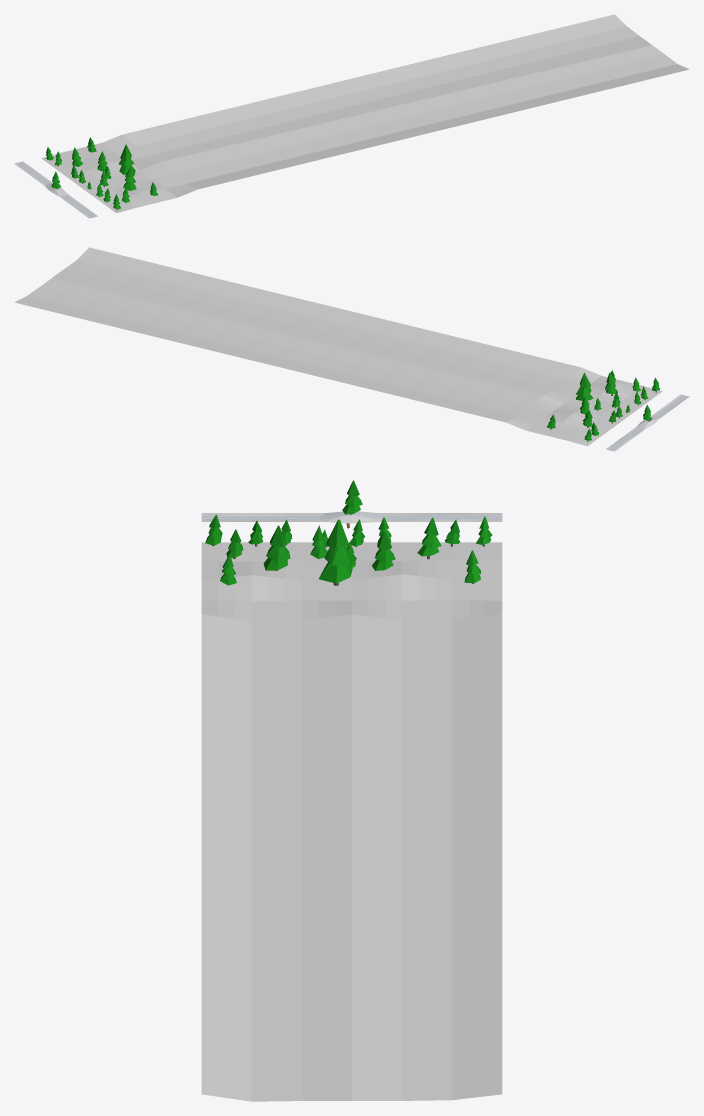
The model's file is ski.fbx.
3 views of the same model, one above another, from view 1: azimuth 30°, elevation 25°; view 2: azimuth 150°, elevation 25°; view 3: azimuth 270°, elevation 25° (orthographic). The views are drawn at different scales.
Parts seen in each view (by area): view 1: snow, trees, way_1; view 2: snow, trees, way_1; view 3: snow, trees, way_1.
Part boxes in pixels (x1,y1,x2,y2): snow: (41,14,689,213); trees: (45,137,157,210); way_1: (14,161,97,218); snow: (14,247,662,446); trees: (547,370,660,441); way_1: (606,394,689,451); snow: (201,542,502,1101); trees: (205,515,492,585); way_1: (201,513,502,521).
Size of the model in its own units: 10496 by 612 by 2272.
